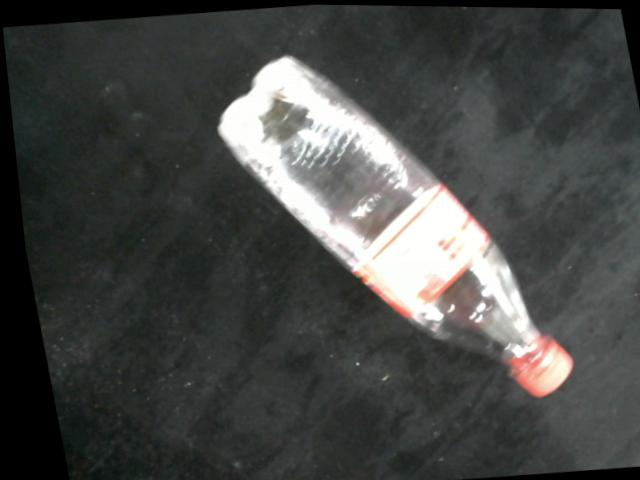bottle: (213, 52, 566, 397)
